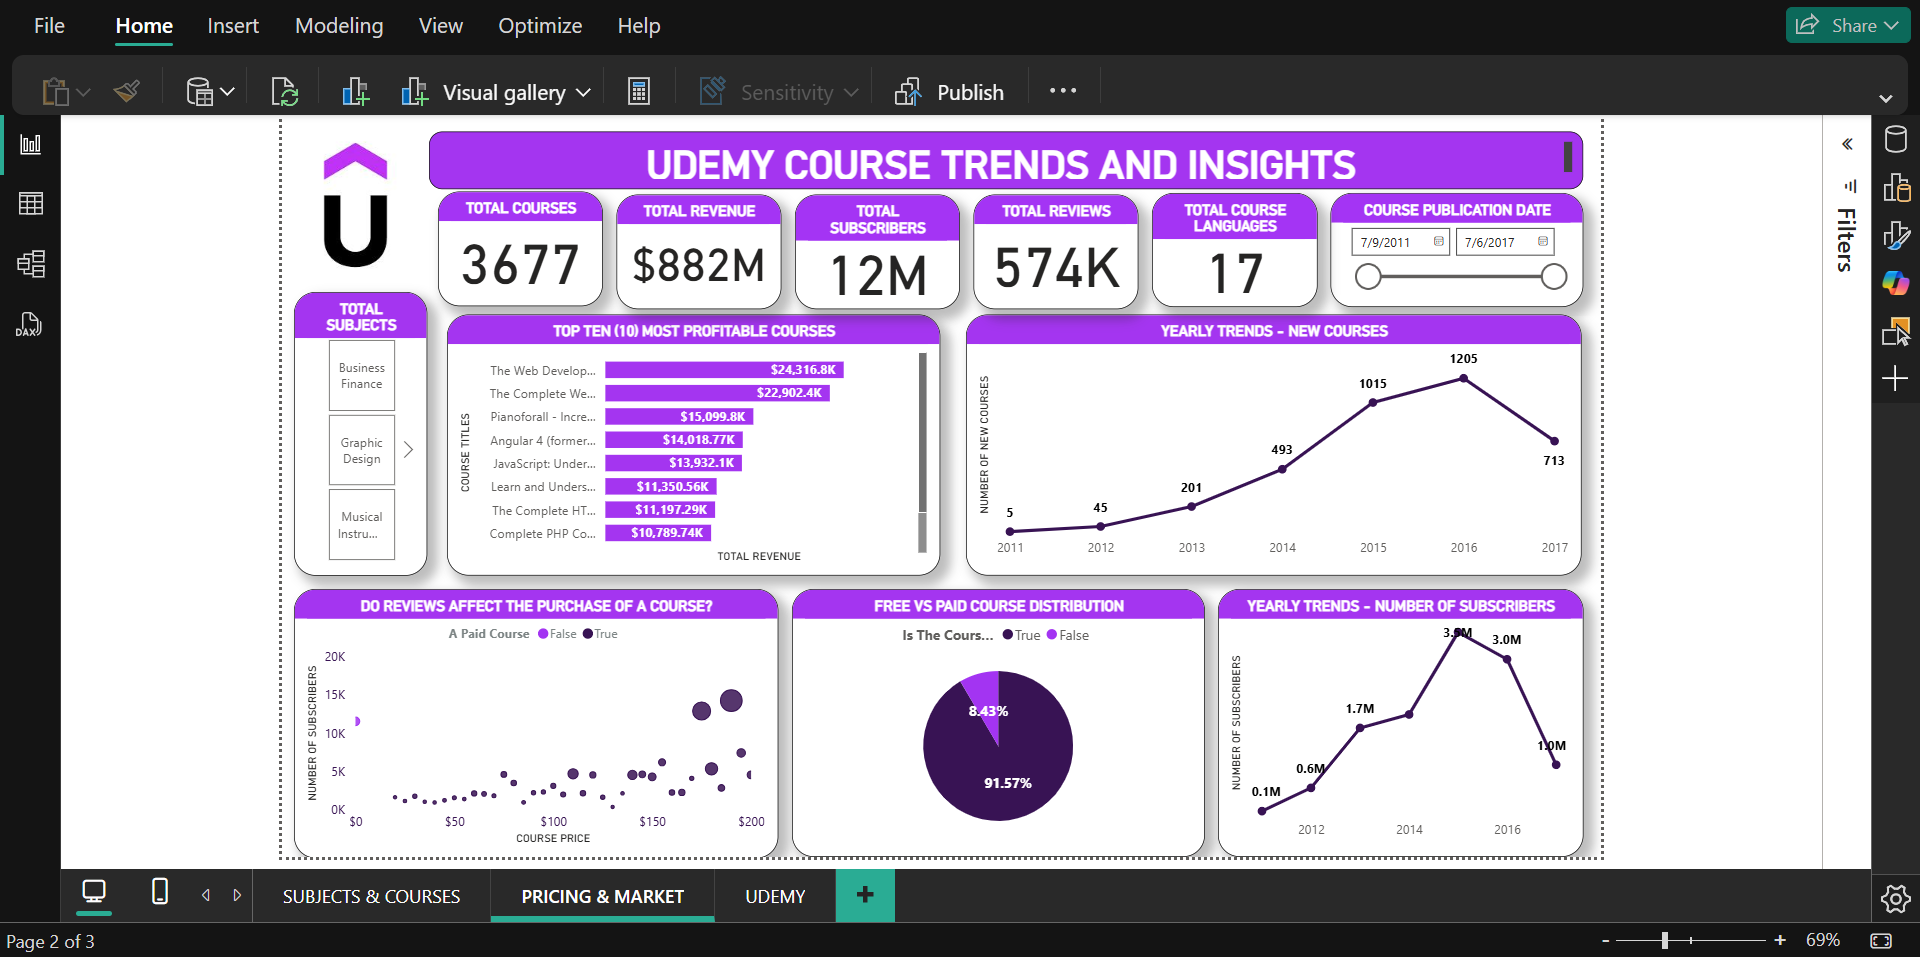

This screenshot's page, from the dashboard's own definition file:
{"tool":"powerbi","page":{"name":"PRICING & MARKET","canvas":[1280,720],"ordinal":1},"visuals":[{"type":"slicer","title":"COURSE PUBLICATION DATE","fields":{"Values":["Udemy Courses - cleaned.Date Published"]},"box":[1017.1,76.2,245.2,111],"z":0},{"type":"textbox","box":[142.5,16.6,1119.8,56.3],"z":1000,"group":"g1"},{"type":"card","title":"TOTAL COURSES","fields":{"Values":["CountNonNull(Udemy Courses - cleaned.Course ID)"]},"box":[170.5,286.3,160,111.4],"z":1000},{"type":"card","title":"TOTAL COURSES","fields":{"Values":["CountNonNull(Udemy Courses - cleaned.Course ID)"]},"box":[151.9,74.3,160,111.4],"z":2000},{"type":"group","id":"g1","title":"Group 1","box":[0,3.3,1262.2,717.7],"z":3000},{"type":"card","title":"TOTAL REVENUE","fields":{"Values":["Udemy Courses - cleaned.Total Revenue"]},"box":[324.8,77,160,111.4],"z":4000},{"type":"card","title":"TOTAL SUBSCRIBERS","fields":{"Values":["Sum(Udemy Courses - cleaned.Number of Subscribers)"]},"box":[497.7,77,160,111.4],"z":5000},{"type":"card","title":"TOTAL REVIEWS","fields":{"Values":["Sum(Udemy Courses - cleaned.Number of Reviews)"]},"box":[670.6,77,160,111.4],"z":6000},{"type":"card","title":"TOTAL COURSE LANGUAGES","fields":{"Values":["Count(Udemy Courses - cleaned.Course Language)"]},"box":[843.5,76.2,160.7,111],"z":7000},{"type":"slicer","title":"TOTAL SUBJECTS","fields":{"Values":["Udemy Courses - cleaned.Course Subject"]},"box":[12.2,172.1,129.6,275.4],"z":7000,"group":"g1"},{"type":"image","box":[0,3.3,142.5,169],"z":8000,"group":"g1"},{"type":"barChart","title":"TOP TEN (10) MOST PROFITABLE COURSES","fields":{"Y":["Udemy Courses - cleaned.Total Revenue"],"Category":["Udemy Courses - cleaned.Course Title"]},"box":[160.7,193.8,478.7,253.4],"z":9000,"group":"g1"},{"type":"lineChart","title":"YEARLY TRENDS - NEW COURSES","fields":{"Y":["CountNonNull(Udemy Courses - cleaned.Course ID)"],"Category":["Udemy Courses - cleaned.Date Published.Variation.Date Hierarchy.Year","Udemy Courses - cleaned.Date Published.Variation.Date Hierarchy.Month","Udemy Courses - cleaned.Date Published.Variation.Date Hierarchy.Day"]},"box":[664.3,194.4,597.5,253.2],"z":10000,"group":"g1"},{"type":"scatterChart","title":"DO REVIEWS AFFECT THE PURCHASE OF A COURSE?","fields":{"Series":["Udemy Courses - cleaned.A Paid Course"],"X":["Sum(Udemy Courses - cleaned.Course Price)1"],"Size":["Avg(Udemy Courses - cleaned.Number of Reviews)"],"Y":["Avg(Udemy Courses - cleaned.Number of Subscribers)"]},"box":[12.2,459.7,469.9,261.3],"z":11000,"group":"g1"},{"type":"pieChart","title":"FREE VS PAID COURSE DISTRIBUTION","fields":{"Y":["CountNonNull(Udemy Courses - cleaned.Course Title)"],"Category":["Udemy Courses - cleaned.A Paid Course"]},"box":[495.3,460.5,400.9,260.1],"z":12000,"group":"g1"},{"type":"lineChart","title":"YEARLY TRENDS - NUMBER OF SUBSCRIBERS","fields":{"Category":["Udemy Courses - cleaned.Date Published.Variation.Date Hierarchy.Year"],"Y":["Sum(Udemy Courses - cleaned.Number of Subscribers)"]},"box":[907.8,460.5,354.5,260.1],"z":13000,"group":"g1"}]}

Visuals, with their boxes on the page's 1280x720 design canvas (x1, y1, x2, y2). These are canvas units, not pixel positions in the 1920x957 screenshot, which may show the page scaled, cropped or inside an application window:
"COURSE PUBLICATION DATE" slicer: [x1=1017, y1=76, x2=1262, y2=187]
textbox: [x1=142, y1=17, x2=1262, y2=73]
"TOTAL COURSES" card: [x1=170, y1=286, x2=330, y2=398]
"TOTAL COURSES" card: [x1=152, y1=74, x2=312, y2=186]
"Group 1" group: [x1=0, y1=3, x2=1262, y2=721]
"TOTAL REVENUE" card: [x1=325, y1=77, x2=485, y2=188]
"TOTAL SUBSCRIBERS" card: [x1=498, y1=77, x2=658, y2=188]
"TOTAL REVIEWS" card: [x1=671, y1=77, x2=831, y2=188]
"TOTAL COURSE LANGUAGES" card: [x1=844, y1=76, x2=1004, y2=187]
"TOTAL SUBJECTS" slicer: [x1=12, y1=172, x2=142, y2=448]
image: [x1=0, y1=3, x2=142, y2=172]
"TOP TEN (10) MOST PROFITABLE COURSES" barChart: [x1=161, y1=194, x2=639, y2=447]
"YEARLY TRENDS - NEW COURSES" lineChart: [x1=664, y1=194, x2=1262, y2=448]
"DO REVIEWS AFFECT THE PURCHASE OF A COURSE?" scatterChart: [x1=12, y1=460, x2=482, y2=721]
"FREE VS PAID COURSE DISTRIBUTION" pieChart: [x1=495, y1=460, x2=896, y2=721]
"YEARLY TRENDS - NUMBER OF SUBSCRIBERS" lineChart: [x1=908, y1=460, x2=1262, y2=721]
